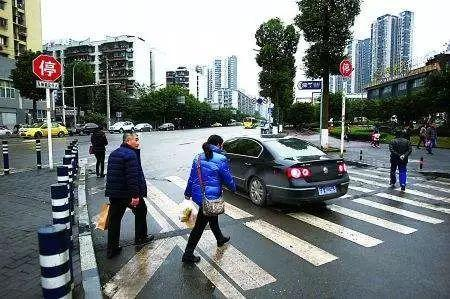bus: (242, 117, 256, 129)
car: (223, 136, 350, 208), (18, 121, 69, 138), (73, 122, 101, 135), (108, 121, 135, 133), (0, 124, 13, 138), (134, 123, 152, 132), (157, 123, 175, 131)
person: (181, 134, 237, 264), (104, 132, 149, 250), (389, 131, 412, 191), (93, 121, 106, 178), (423, 123, 438, 154), (417, 120, 430, 152), (369, 129, 380, 148)
sign: (32, 54, 63, 82), (292, 80, 324, 88), (340, 58, 353, 75)
